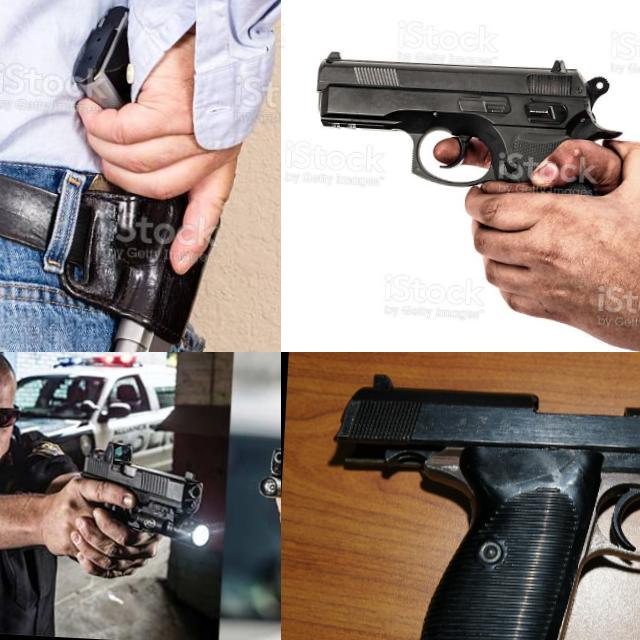handgun: (313, 365, 640, 640), (49, 0, 243, 352), (304, 44, 630, 226), (63, 434, 210, 571), (251, 430, 281, 580)
